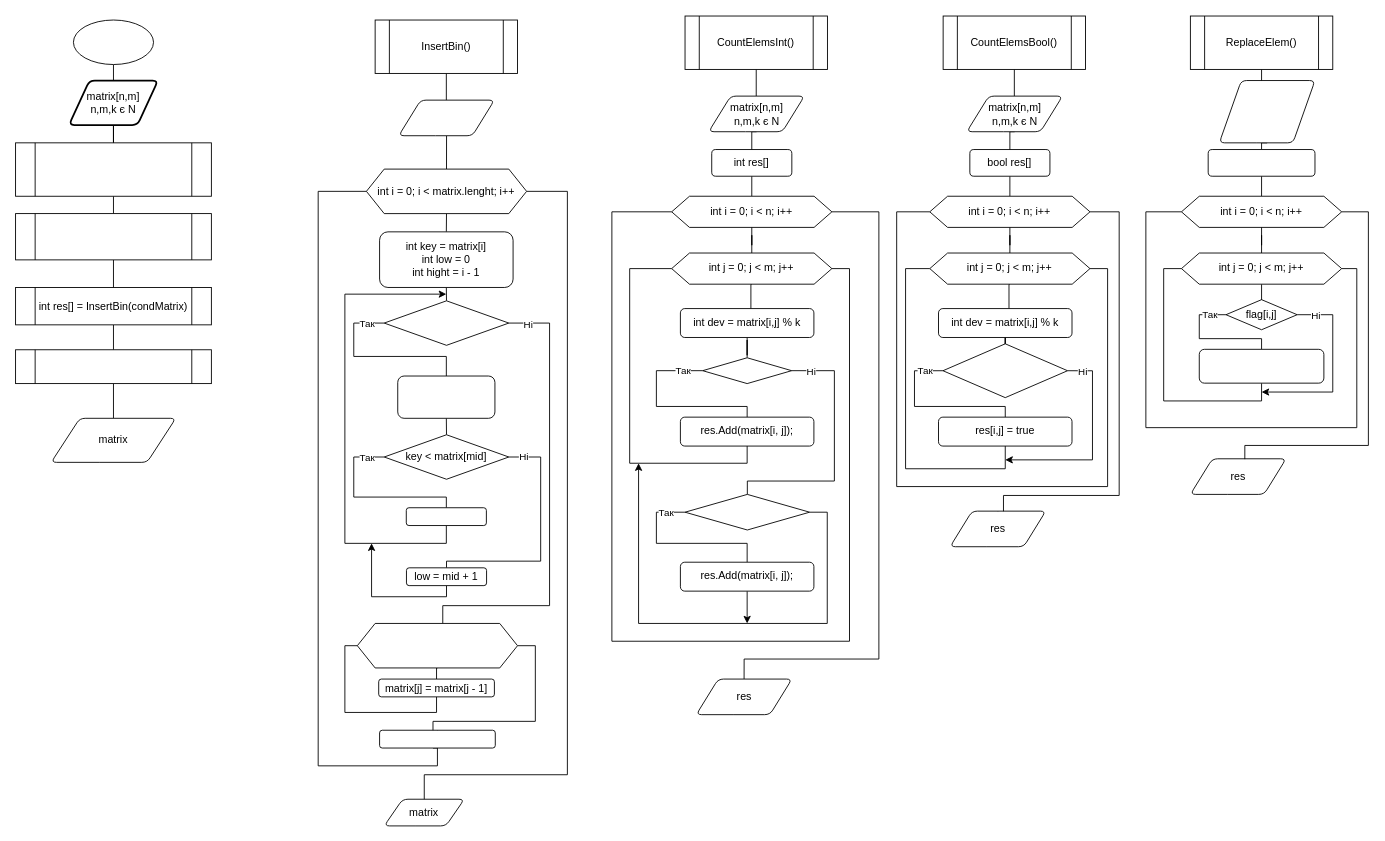
The diagram is 1385 pixels wide and 841 high, and some of its shapes have lost their labels. The shapes that lost their labels are listed below. From the top down, each one's centre as x and y in pixels, then its label:
At (113,42): "start".
At (446,117): "matrix[n] n є N".
At (1266,111): "matrix[n,m] res[] flag[n,m] n, m є N".
At (113,169): "int condMatrix[] = CountElemsInt(matrix, n, m, k)".
At (1261,162): "int count = 0".
At (113,236): "bool colorPlaces[n,m] = CountElemsBool(matrix,n,m,k)".
At (446,322): "low < hight".
At (113,366): "ReplaceElem(matrix, res, colorPlaces, N, M);".
At (747,370): "dev = 0".
At (1005,370): "(dev = 0) || (dev % 2 == 0)".
At (1261,365): "matrix[i, j] = res[count] count++".
At (446,396): "int mid = low +(hight - low) / 2".
At (445,516): "hight = mid".
At (747,512): "dev % 2 = 0".
At (437,645): "int j = i; j > low + 1; j--".
At (437,738): "matrix[low] =key".
